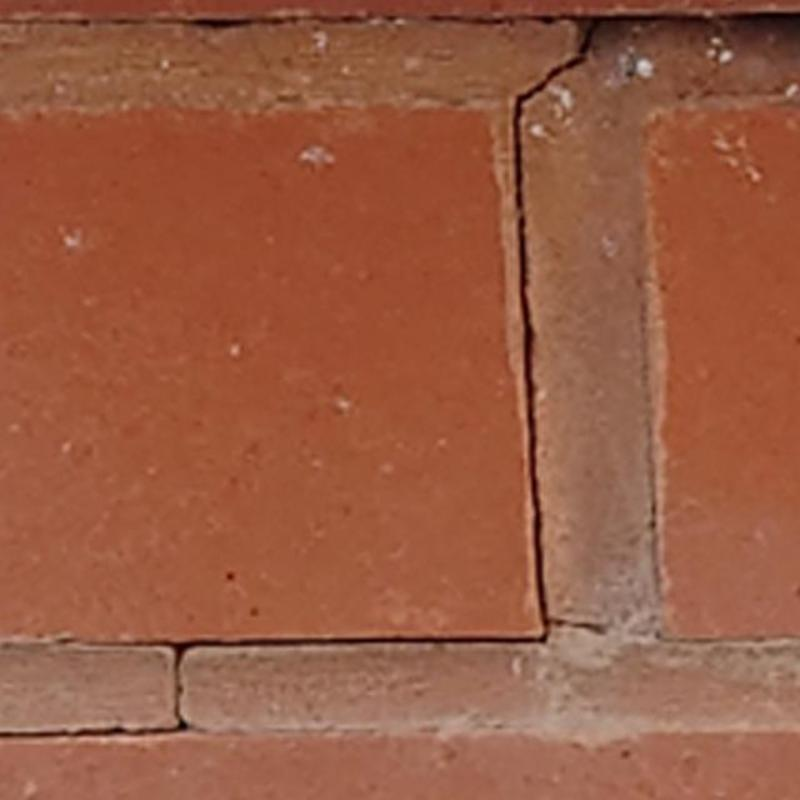pothole: (0, 19, 602, 745), (0, 9, 799, 29)
